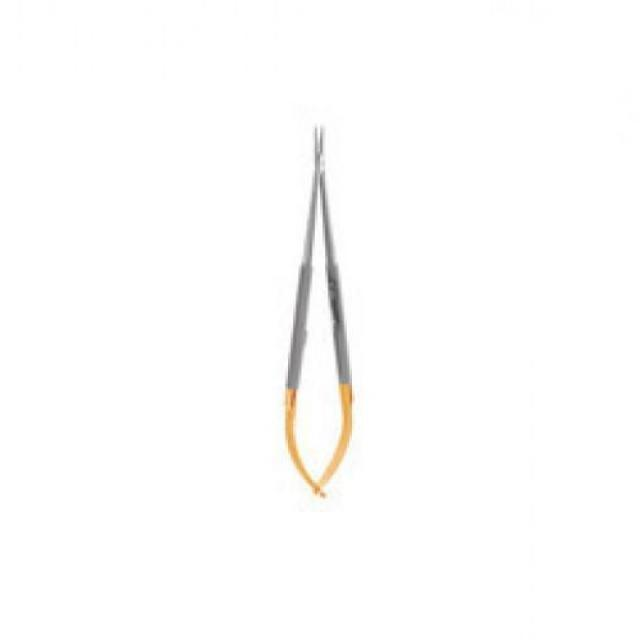Castroviejo: (278, 120, 361, 502)
